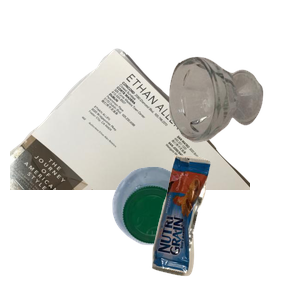glass: (166, 54, 300, 189)
paper: (10, 46, 250, 226)
plastic: (110, 164, 300, 300)
trash: (149, 152, 300, 300)
